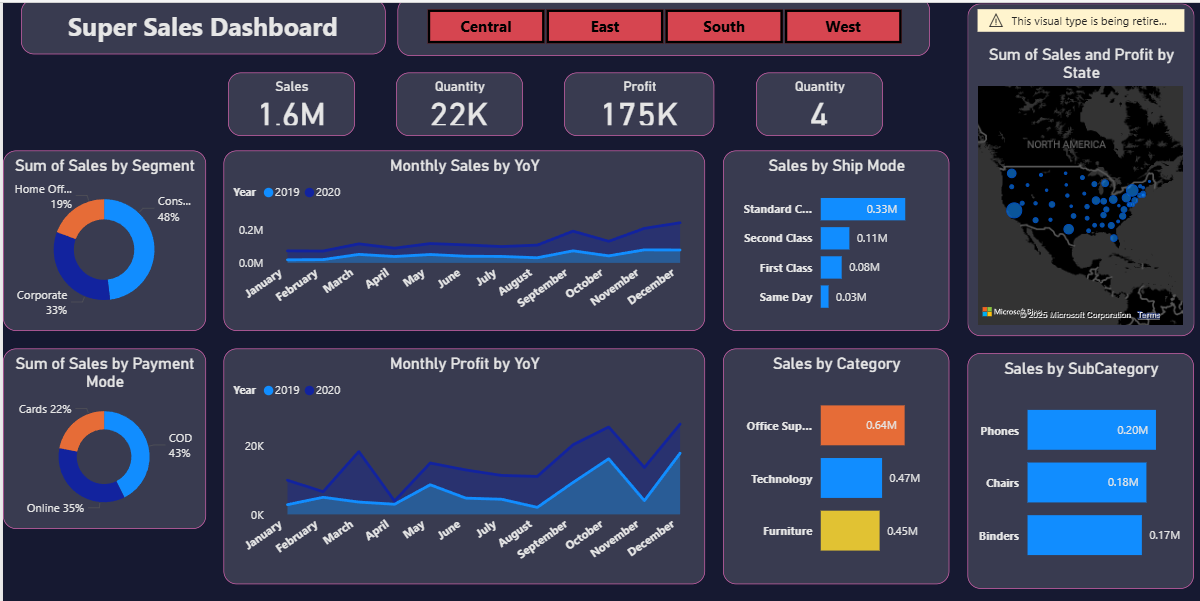

The page's visual inventory and layout, read from the dashboard file:
{"tool":"powerbi","page":{"name":"Page 1","canvas":[1280,720],"ordinal":0},"visuals":[{"type":"clusteredBarChart","title":"Sales by Category","fields":{"Category":["SuperStore_Sales_Dataset.Category"],"Y":["Sum(SuperStore_Sales_Dataset.Sales)"]},"box":[763.7,418.3,240,250.3],"z":0},{"type":"clusteredBarChart","title":"Sales by SubCategory","fields":{"Category":["SuperStore_Sales_Dataset.Sub-Category"],"Y":["Sum(SuperStore_Sales_Dataset.Sales)"]},"box":[1022.7,422.6,240,250.3],"z":1000},{"type":"clusteredBarChart","title":"Sales by Ship Mode","fields":{"Category":["SuperStore_Sales_Dataset.Ship Mode"],"Y":["Sum(SuperStore_Sales_Dataset.Sales)"]},"box":[763.5,208.3,240,191.5],"z":2000},{"type":"stackedAreaChart","title":"Monthly Sales by YoY","fields":{"Category":["SuperStore_Sales_Dataset.Order Date.Variation.Date Hierarchy.Month","SuperStore_Sales_Dataset.Order Date.Variation.Date Hierarchy.Day"],"Y":["Sum(SuperStore_Sales_Dataset.Sales)"],"Series":["SuperStore_Sales_Dataset.Order Date.Variation.Date Hierarchy.Year"]},"box":[233.9,208.3,510.7,191.5],"z":3000},{"type":"stackedAreaChart","title":"Monthly Profit by YoY","fields":{"Category":["SuperStore_Sales_Dataset.Order Date.Variation.Date Hierarchy.Month","SuperStore_Sales_Dataset.Order Date.Variation.Date Hierarchy.Day"],"Series":["SuperStore_Sales_Dataset.Order Date.Variation.Date Hierarchy.Year"],"Y":["Sum(SuperStore_Sales_Dataset.Profit)"]},"box":[234,418.3,510.7,250.3],"z":4000},{"type":"map","title":"Sum of Sales and Profit by State","fields":{"Category":["SuperStore_Sales_Dataset.State"],"Size":["Sum(SuperStore_Sales_Dataset.Sales)"]},"box":[1022.4,51.8,240.5,352.8],"z":5000},{"type":"donutChart","fields":{"Category":["SuperStore_Sales_Dataset.Segment"],"Y":["Sum(SuperStore_Sales_Dataset.Sales)"]},"box":[0,208.3,215,191.5],"z":6000},{"type":"donutChart","fields":{"Category":["SuperStore_Sales_Dataset.Payment Mode"],"Y":["Sum(SuperStore_Sales_Dataset.Sales)"]},"box":[0,418.3,215,191.5],"z":7000},{"type":"slicer","fields":{"Values":["SuperStore_Sales_Dataset.Region"]},"box":[418.3,45.4,564.4,62.2],"z":8000},{"type":"textbox","box":[18.5,47,386.4,58.8],"z":9000},{"type":"card","title":"Sales","fields":{"Values":["Sum(SuperStore_Sales_Dataset.Sales)"]},"box":[238.5,125.1,134.4,67.2],"z":10000},{"type":"card","title":"Quantity","fields":{"Values":["Sum(SuperStore_Sales_Dataset.Quantity)"]},"box":[416.6,125.1,134.4,67.2],"z":11000},{"type":"card","title":"Profit","fields":{"Values":["Sum(SuperStore_Sales_Dataset.Profit)"]},"box":[594.6,125.1,159.6,67.2],"z":12000},{"type":"card","title":"Quantity","fields":{"Values":["Avg(SuperStore_Sales_Dataset.AvgDelivery)"]},"box":[797.9,125.1,134.4,67.2],"z":13000}]}

Visuals, with their boxes on the page's 1280x720 design canvas (x1, y1, x2, y2). These are canvas units, not pixel positions in the 1200x601 screenshot, which may show the page scaled, cropped or inside an application window:
"Sales by Category" clusteredBarChart: (x1=764, y1=418, x2=1004, y2=669)
"Sales by SubCategory" clusteredBarChart: (x1=1023, y1=423, x2=1263, y2=673)
"Sales by Ship Mode" clusteredBarChart: (x1=764, y1=208, x2=1004, y2=400)
"Monthly Sales by YoY" stackedAreaChart: (x1=234, y1=208, x2=745, y2=400)
"Monthly Profit by YoY" stackedAreaChart: (x1=234, y1=418, x2=745, y2=669)
"Sum of Sales and Profit by State" map: (x1=1022, y1=52, x2=1263, y2=405)
donutChart - SuperStore_Sales_Dataset.Segment x Sum(SuperStore_Sales_Dataset.Sales): (x1=0, y1=208, x2=215, y2=400)
donutChart - SuperStore_Sales_Dataset.Payment Mode x Sum(SuperStore_Sales_Dataset.Sales): (x1=0, y1=418, x2=215, y2=610)
slicer - SuperStore_Sales_Dataset.Region: (x1=418, y1=45, x2=983, y2=108)
textbox: (x1=18, y1=47, x2=405, y2=106)
"Sales" card: (x1=238, y1=125, x2=373, y2=192)
"Quantity" card: (x1=417, y1=125, x2=551, y2=192)
"Profit" card: (x1=595, y1=125, x2=754, y2=192)
"Quantity" card: (x1=798, y1=125, x2=932, y2=192)
